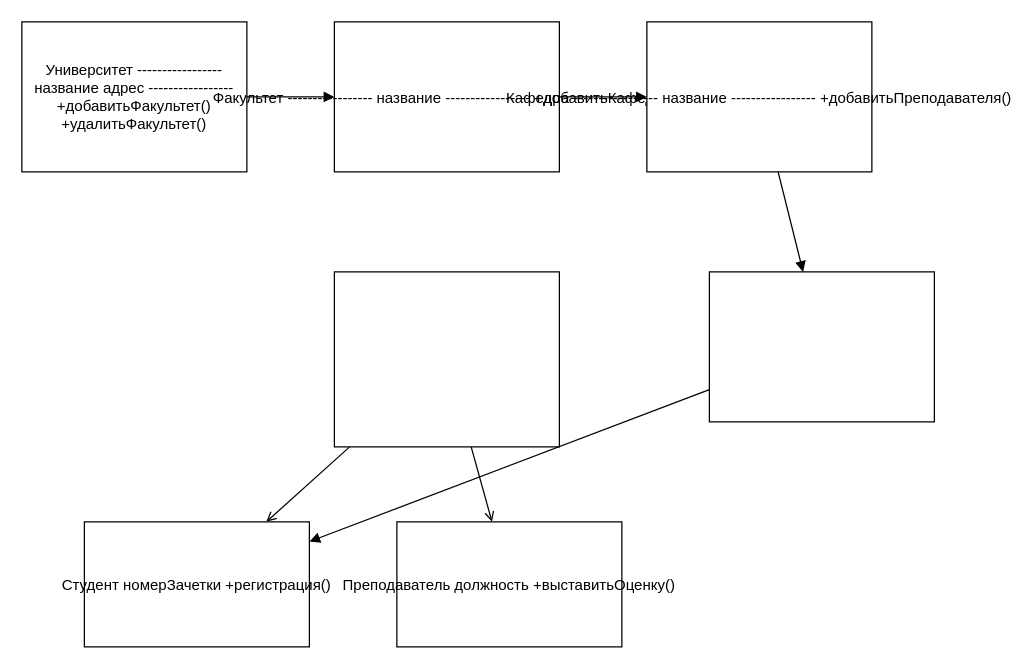
Image size: 1034x669. Some labels were removed from this diagram. The shapes that lost their labels are listed below. From the top down, each one's centre as x and y in pixels, then its label:
the point at 446,359: Пользователь ----------------- id имя email ----------------- +войти()
the point at 821,346: Курс название +добавитьСтудента()
